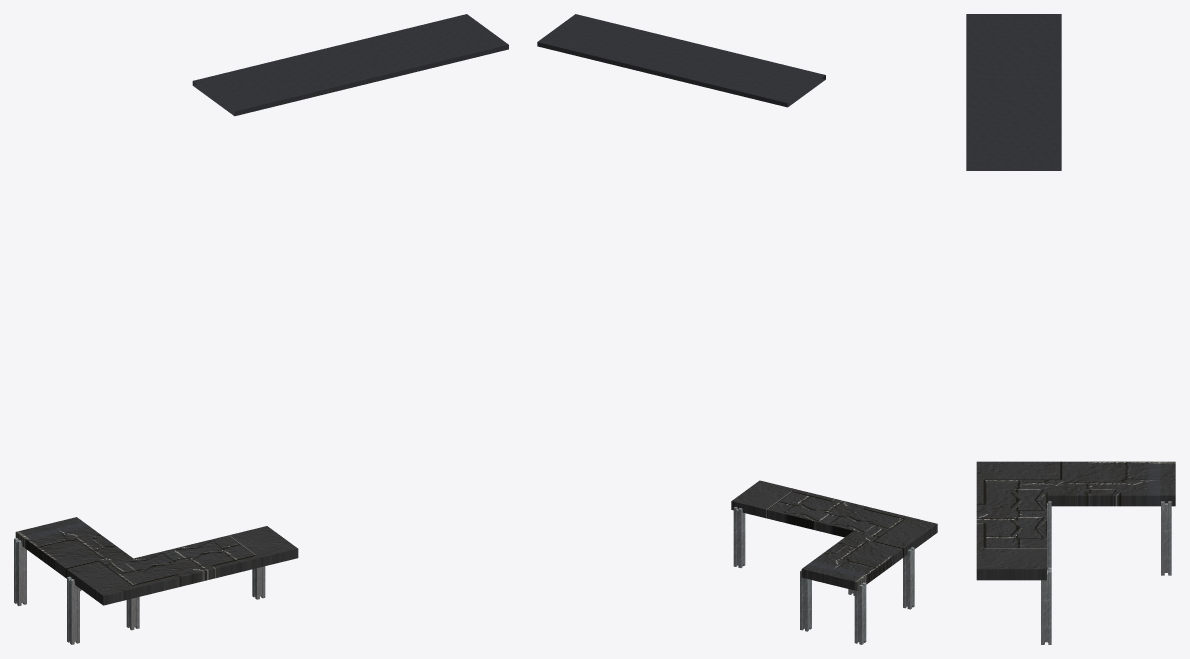
Rendered from Support Structures.glb.
3 renders of one model, left to right at view 1: azimuth 30°, elevation 25°; view 2: azimuth 150°, elevation 25°; view 3: azimuth 270°, elevation 25°, orthographic. The views are drawn at different scales.
Parts seen in each view (by area): view 1: Support Structure 1, Support Structure 2; view 2: Support Structure 1, Support Structure 2; view 3: Support Structure 1, Support Structure 2.
Part boxes in pixels (left/top/right/bottom): Support Structure 1: left=14, top=517, right=298, bottom=644; Support Structure 2: left=192, top=14, right=508, bottom=116; Support Structure 1: left=731, top=480, right=937, bottom=644; Support Structure 2: left=537, top=14, right=825, bottom=107; Support Structure 1: left=976, top=461, right=1175, bottom=644; Support Structure 2: left=966, top=14, right=1061, bottom=170.
Size of what is drawn, in the model's own units: 37.91 by 47.13 by 14.99.
Materials: 3 (3 with a texture image).
